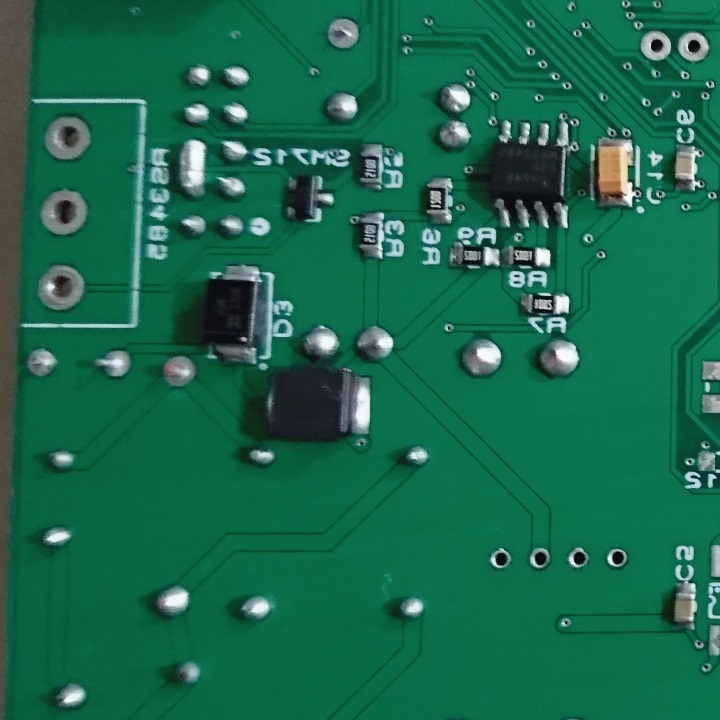F: (39, 184, 93, 238), (41, 109, 93, 164), (36, 261, 88, 313), (155, 352, 199, 389), (90, 346, 136, 381), (24, 340, 59, 382), (324, 15, 361, 53), (676, 30, 710, 64), (640, 29, 673, 64), (564, 545, 589, 573), (603, 544, 628, 572), (489, 545, 512, 574), (527, 547, 552, 572)
P: (174, 137, 209, 201)
